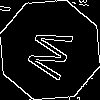W: (25, 25, 83, 85)
